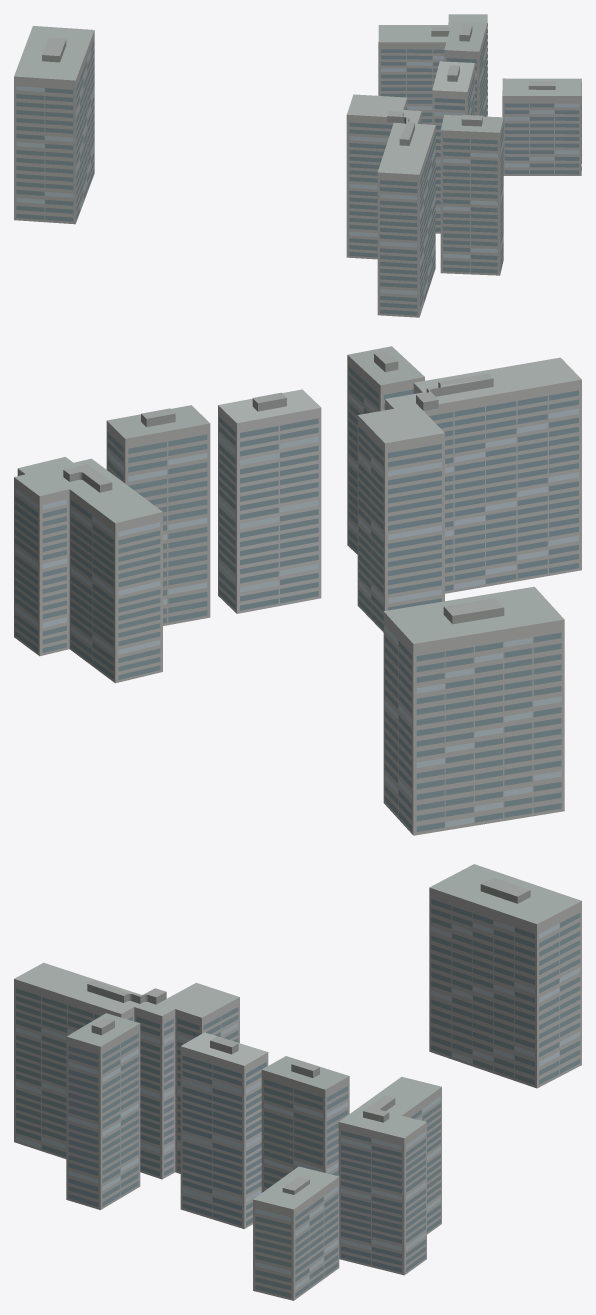
Rendered from apt-a12105001.glb.
3 renders of one model, top to bottom at view 1: azimuth 30°, elevation 25°; view 2: azimuth 150°, elevation 25°; view 3: azimuth 270°, elevation 25°, orthographic. The views are drawn at different scales.
Parts seen in each view (by area): view 1: apt-a12105001; view 2: apt-a12105001; view 3: apt-a12105001.
Part boxes in pixels (x1,y1,x2,y2): apt-a12105001: (14, 14, 581, 317); apt-a12105001: (14, 346, 581, 835); apt-a12105001: (14, 864, 581, 1300).
Bounding box in the file's own units: 195 × 58 × 172.
